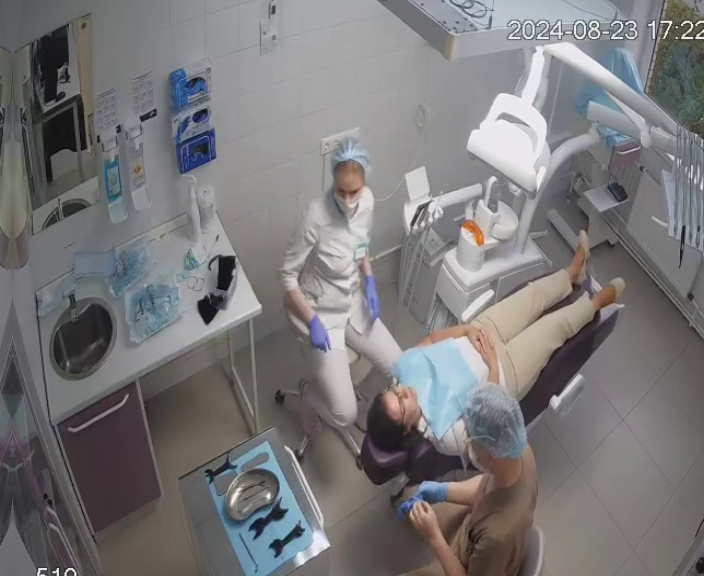Patient: (354, 227, 626, 486)
